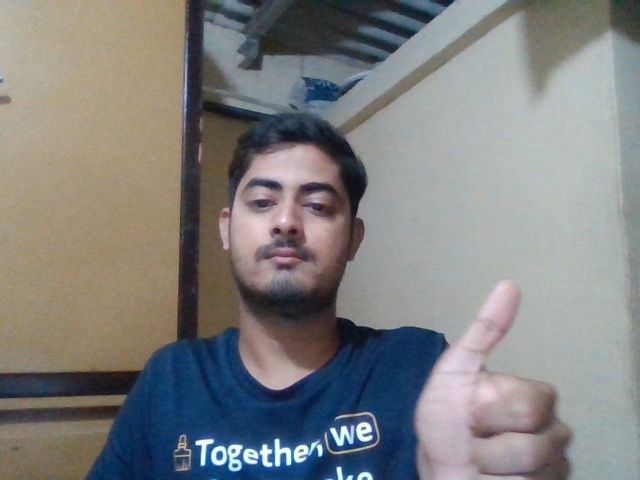ThumbsUp: (414, 282, 570, 480)
